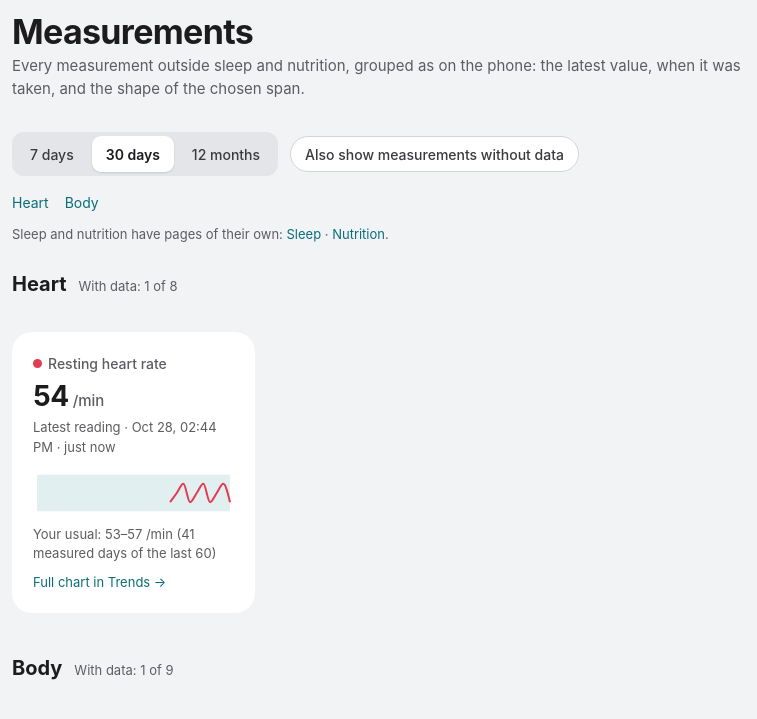
the grid › explains why there is no band on the 12-month span
The width and height of the screenshot is (757, 719).
Expected: the heading "Resting heart rate" is shown, [33,355,167,372]
Click the button "12 months": x=226, y=154 [178,136,274,172]
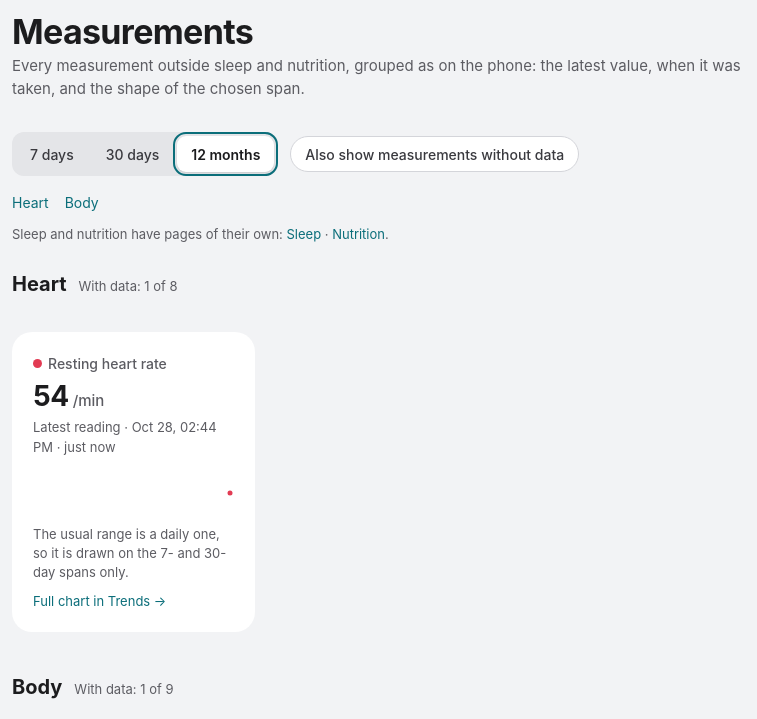
Expected: the text "drawn on the 7- and 30-day spans only" is shown, [33,526,226,580]
